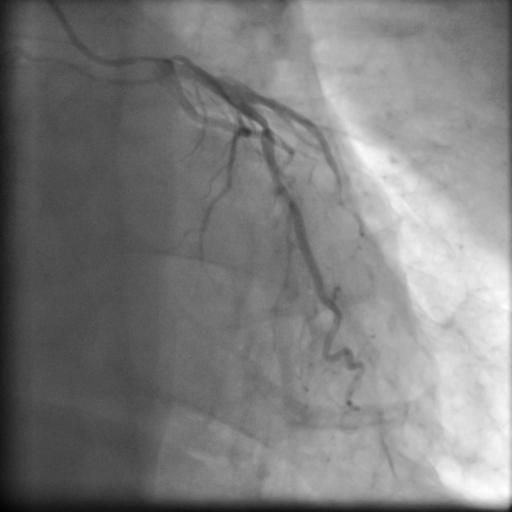Stenosis: (242, 124, 267, 142)
